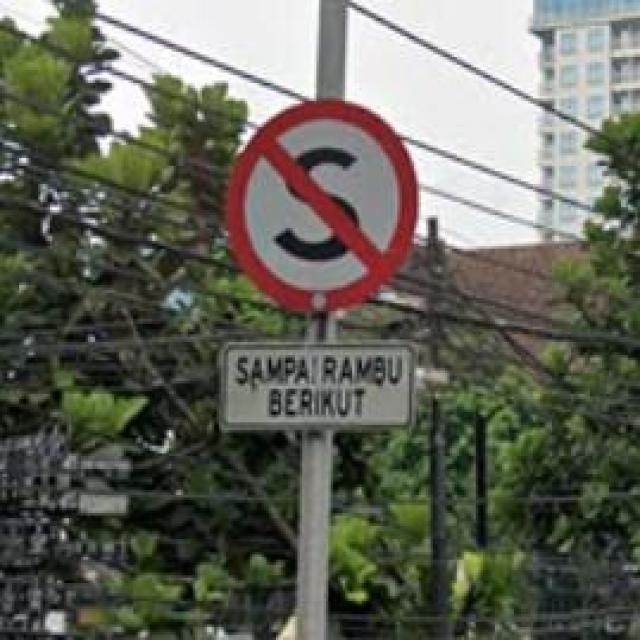traffic sign: (224, 96, 422, 314)
